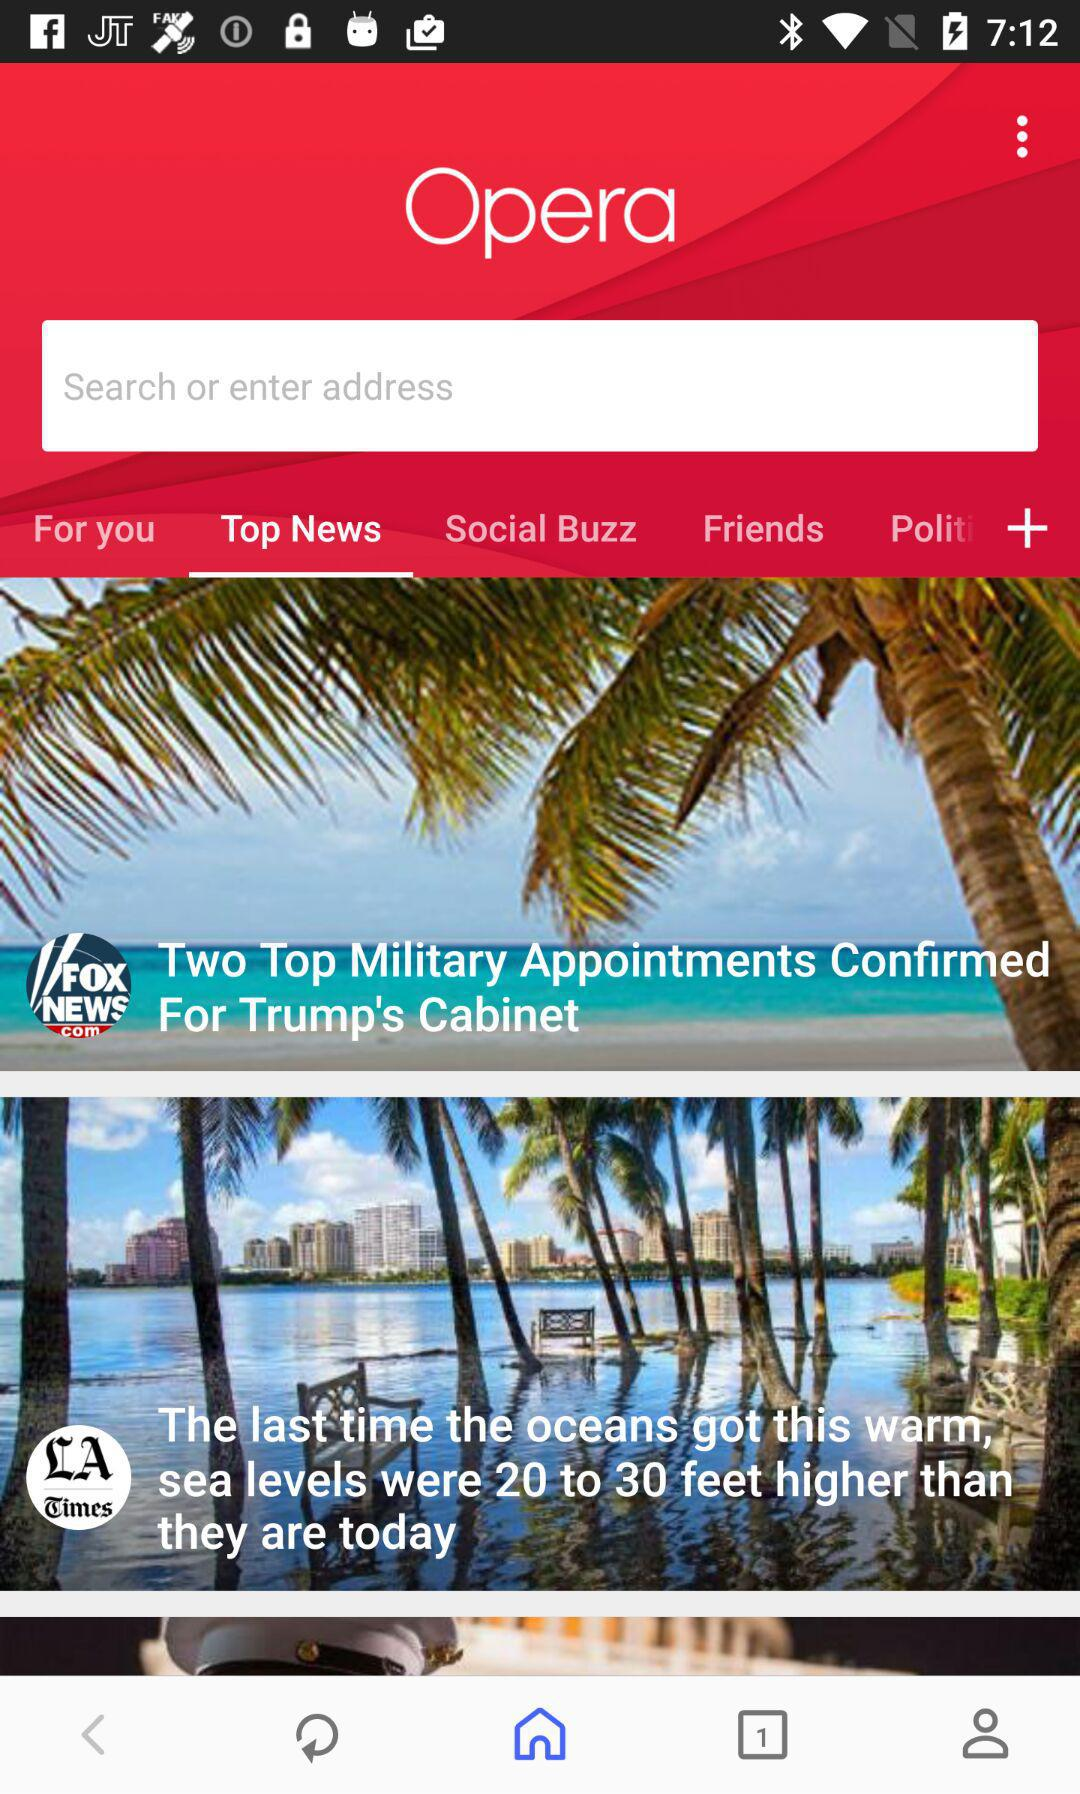Bottom_Navigation: (1, 1676, 1080, 1794)
EditText: (44, 320, 1039, 454)
Icon: (512, 1706, 568, 1761), (962, 1707, 1010, 1759), (296, 1713, 340, 1765), (1006, 507, 1049, 550), (81, 1713, 106, 1756), (1015, 115, 1030, 161)
Image: (1, 1097, 1080, 1592), (1, 578, 1080, 1071), (1, 1617, 1080, 1677), (26, 932, 135, 1041), (26, 1424, 133, 1531), (737, 1709, 789, 1759)
Multi_Tab: (1, 470, 1080, 578)
Text: (156, 1404, 1013, 1561), (158, 938, 1051, 1044), (404, 165, 676, 263), (64, 372, 454, 402), (220, 513, 382, 551), (445, 513, 638, 545), (35, 514, 156, 552), (705, 513, 825, 545), (892, 513, 972, 545)
UpperTaskBar: (1, 1, 1080, 64)
